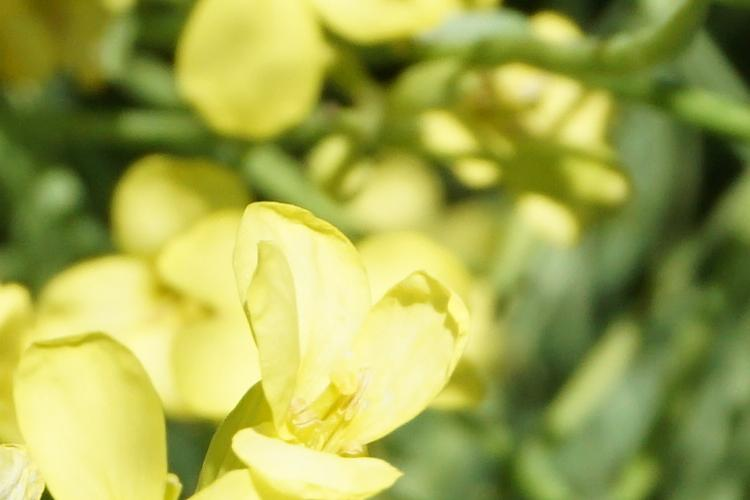yellow: (58, 205, 448, 500)
